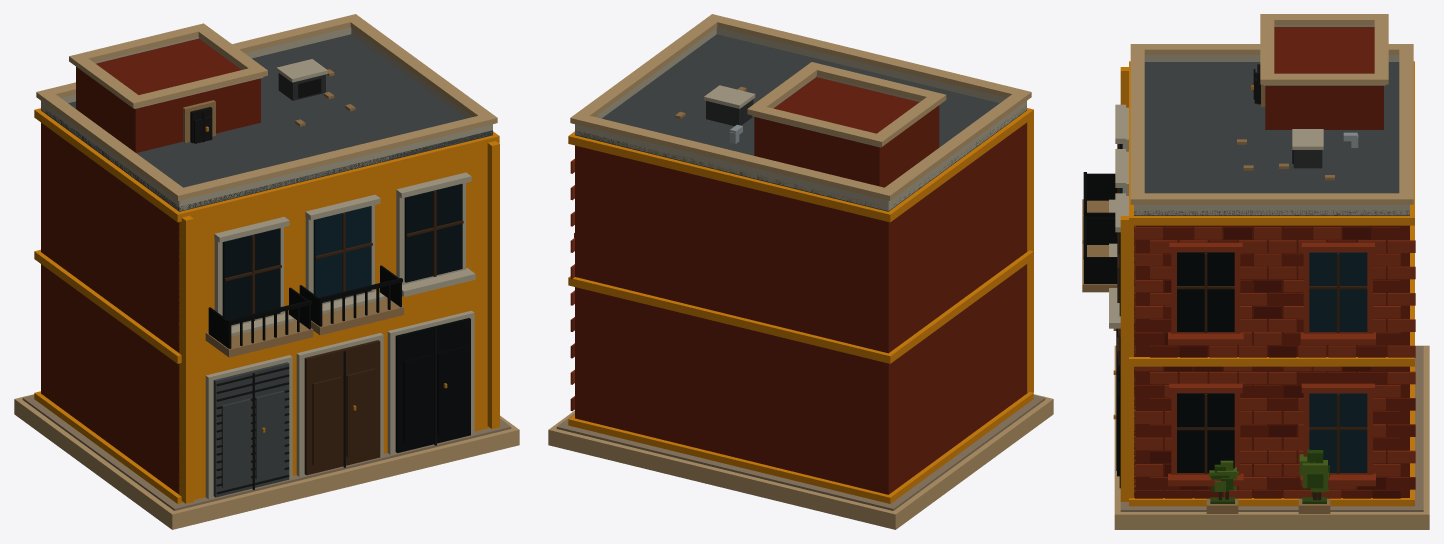
File: SM_Mapa_041.fbx
The picture shows the model from 3 angles, left to right: view 1: azimuth 30°, elevation 25°; view 2: azimuth 150°, elevation 25°; view 3: azimuth 270°, elevation 25°; orthographic projection.
Parts seen in each view (by area): view 1: SM_Mapa_041; view 2: SM_Mapa_041; view 3: SM_Mapa_041.
Part boxes in pixels (x1,y1,x2,y2): SM_Mapa_041: (14, 14, 519, 529); SM_Mapa_041: (548, 14, 1053, 529); SM_Mapa_041: (1082, 14, 1429, 529).
Size of the model in its own units: 8 by 6.82 by 7.88.
